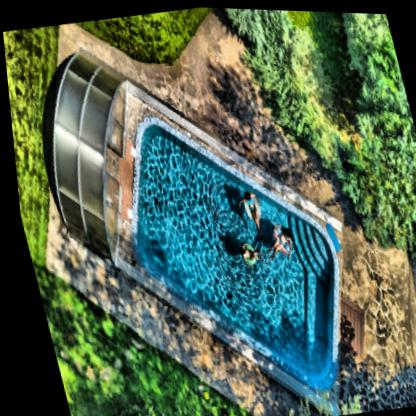tree-top: (345, 120, 416, 263), (256, 50, 340, 154), (349, 63, 416, 146), (222, 6, 296, 62), (328, 10, 396, 62)
